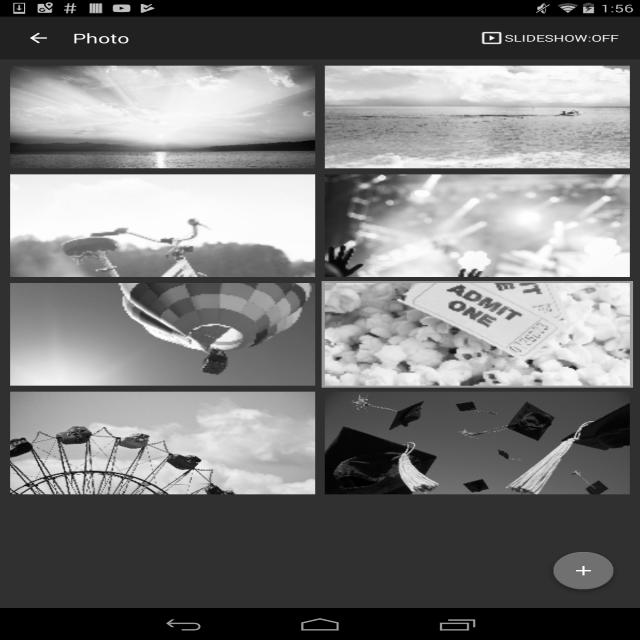ImageButton: (552, 551, 616, 590), (18, 27, 56, 50)
ImageView: (11, 283, 315, 390), (10, 66, 312, 172), (323, 395, 628, 496), (325, 283, 627, 385), (325, 65, 627, 167), (333, 174, 629, 277), (8, 395, 313, 492)
TextView: (507, 30, 624, 49), (69, 31, 133, 47)
